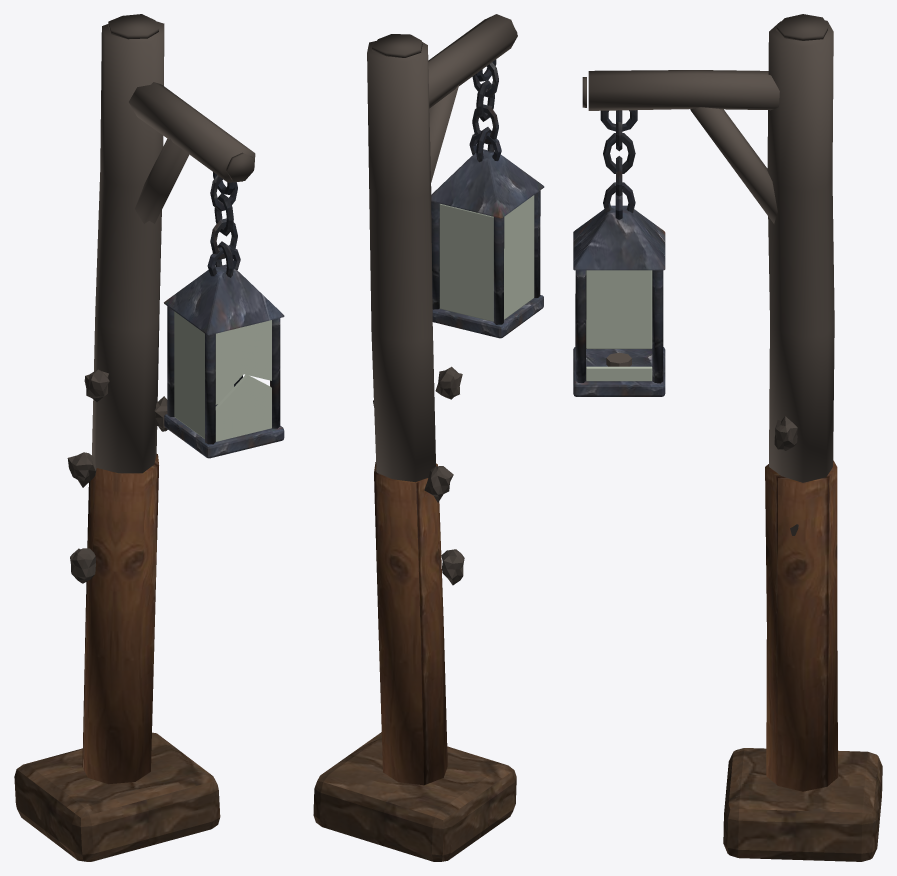
The model's file is lantern_post_burnt.glb.
The picture shows the model from 3 angles, left to right: view 1: azimuth 30°, elevation 25°; view 2: azimuth 150°, elevation 25°; view 3: azimuth 270°, elevation 25°; orthographic projection. The views are drawn at different scales.
Visible parts, largest first — view 1: model; view 2: model; view 3: model.
Part boxes in pixels (box(x1,y1,x2,y2)): model: box(14, 14, 284, 861); model: box(313, 14, 544, 861); model: box(573, 14, 882, 861).
Size of the model in its own units: 0.3428 by 1.77 by 0.6061.
11 materials, 4 textured.
